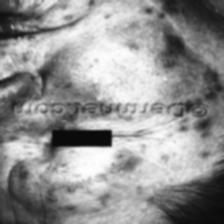Non-Cancerous Skin Condition: (37, 22, 224, 104), (7, 159, 146, 224), (168, 124, 218, 155), (0, 0, 84, 14), (119, 0, 185, 17), (1, 82, 12, 138)
